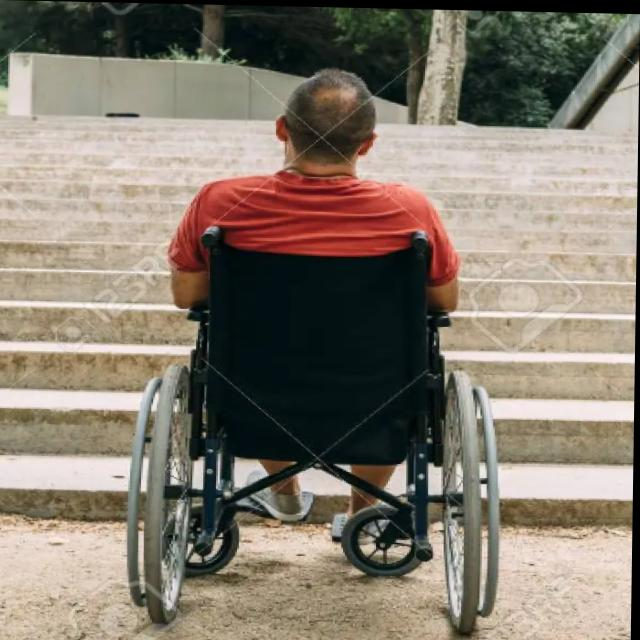wheelchair: (120, 59, 513, 635)
